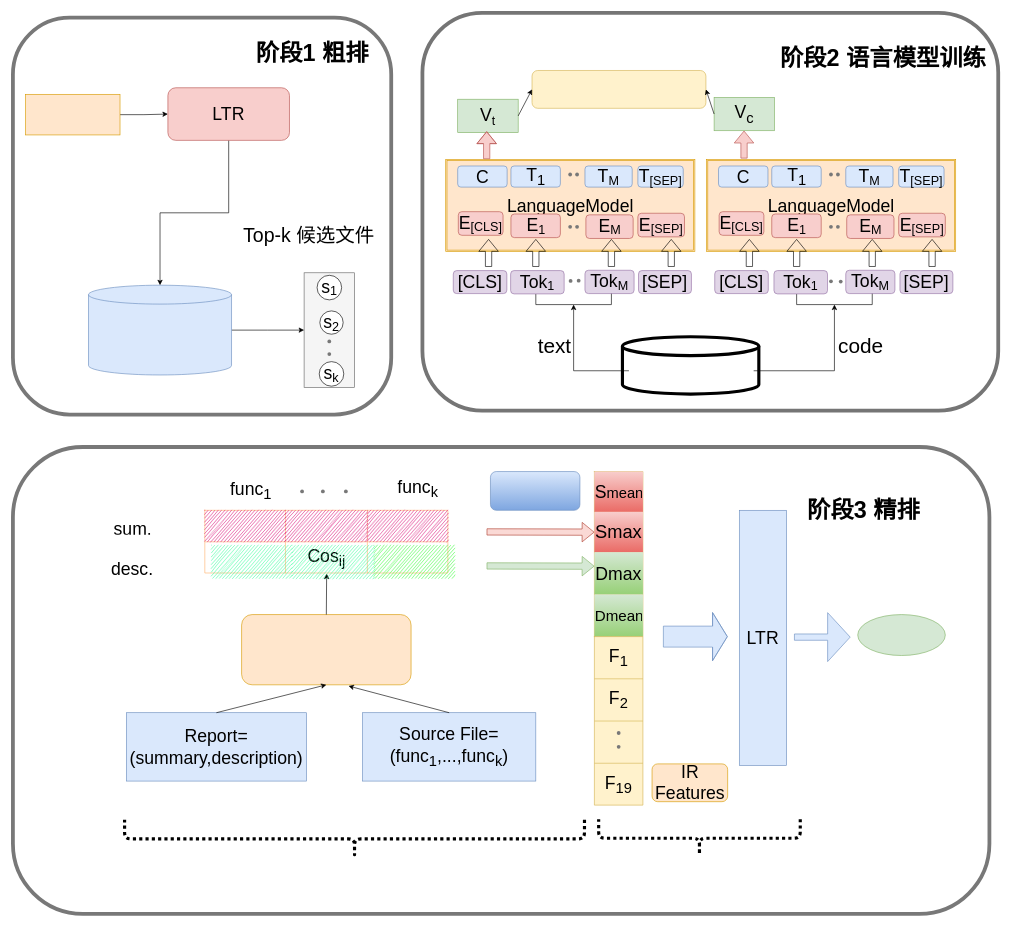
Some shapes in this 1011 by 926 pixel diagram are drawn without their labels. Each missing label, with the centre of its shape:
Bug 报告: the point at 72,114
fine-tune LM: the point at 326,649
max,mean: the point at 535,490
MIX dataset: the point at 690,365
relevance: the point at 901,635
similarity=cos(V t ,V c ): the point at 618,89
代码仓库: the point at 160,330
函数级语义交互特征提取: the point at 354,838
特征融合: the point at 699,838
